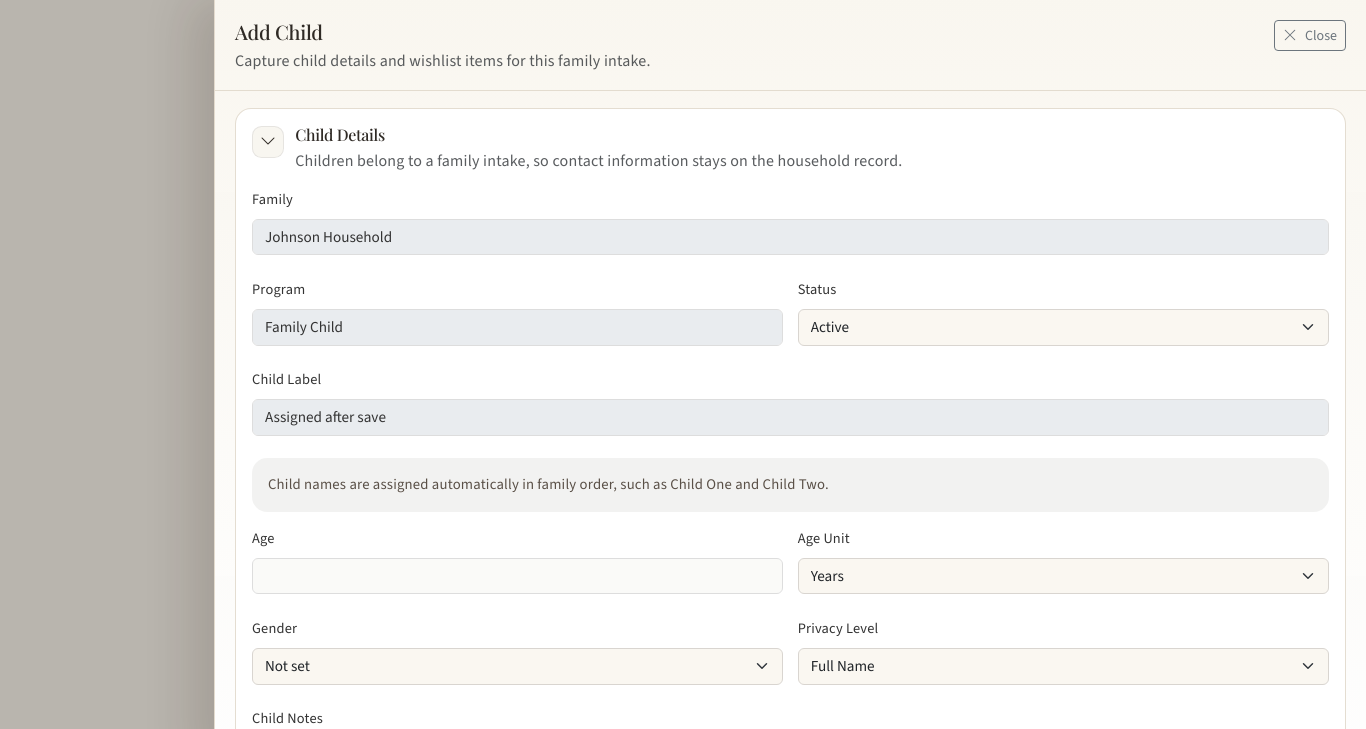
Test: CampaignPeopleRecipientDrawer › keeps the saved child details available after saving instead of resetting to a blank child
The width and height of the screenshot is (1366, 729).
Check: the field labelled "Child Label" holds "Assigned after save", box [252, 399, 1329, 436]
Type "8" into the number field labelled "Age" at (518, 576), box [252, 558, 783, 594]
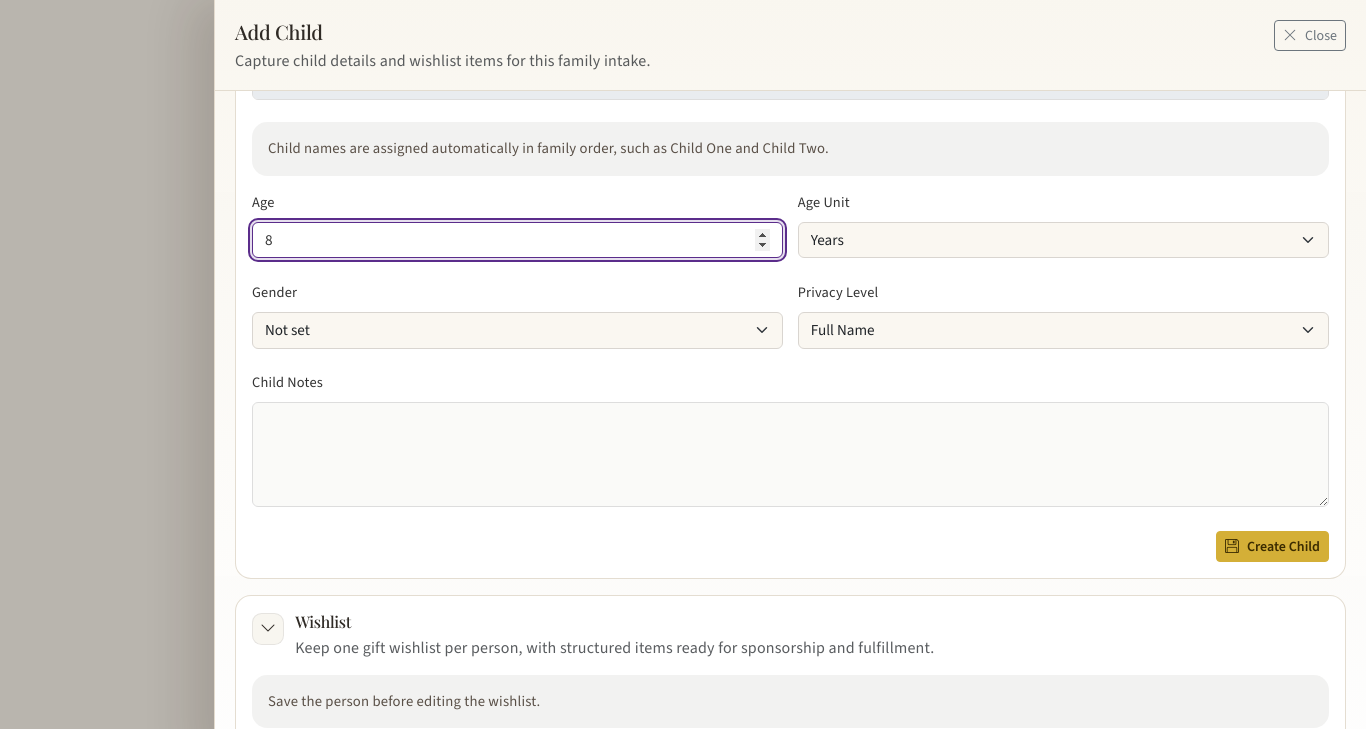
Click the button "Create Child" at (1272, 547), box [1216, 531, 1329, 562]
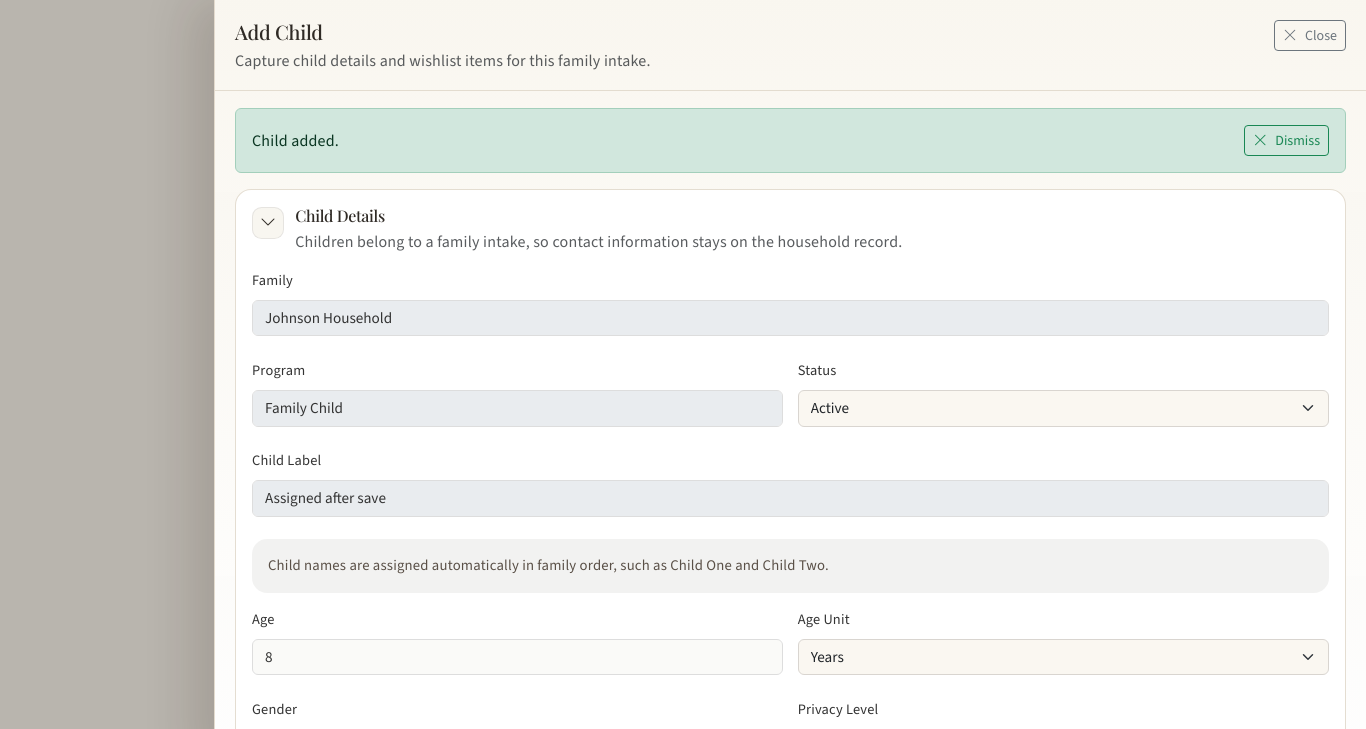
Check: the text "Child added." is shown, box [252, 128, 339, 154]
Check: the field showing "Johnson Household" is shown, box [252, 300, 1329, 336]
